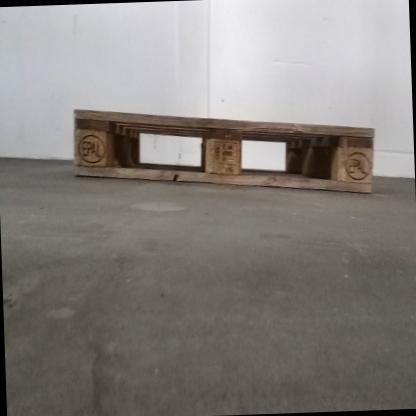BoxFace: (68, 101, 381, 198)
